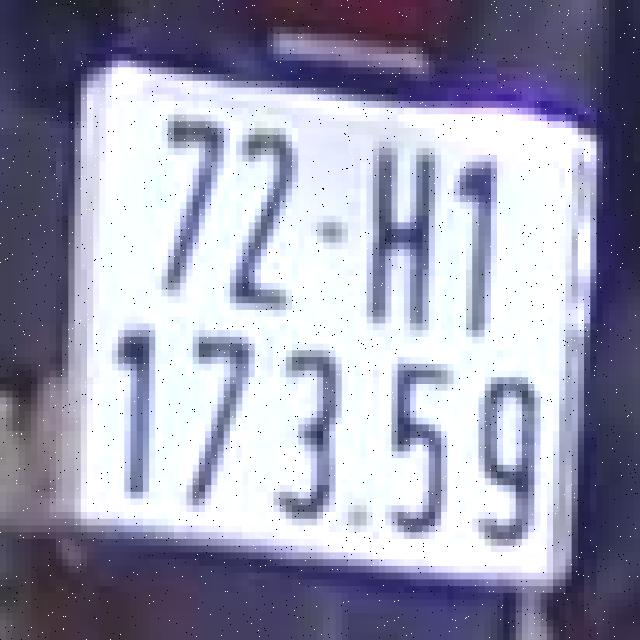1: (435, 142, 516, 350), (100, 314, 162, 516)
2: (223, 122, 304, 324)
3: (258, 327, 345, 529)
5: (373, 350, 466, 546)
7: (149, 98, 230, 313), (174, 323, 261, 519)
9: (472, 364, 559, 552)
H: (361, 138, 454, 334)
